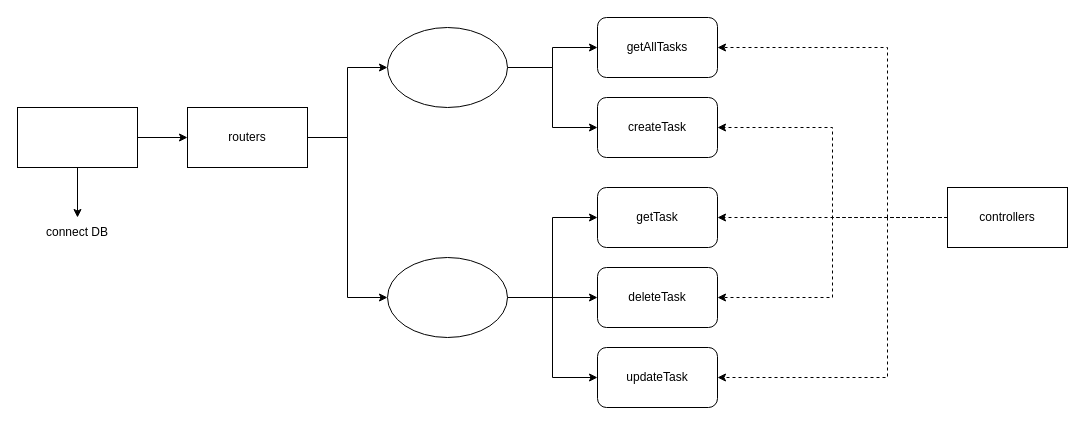
Some shapes in this 1085 by 425 pixel diagram are drawn without their labels. Here are the shapes that lost their labels. From the top down, the centre of each, then its label:
At point 447,67: "/api/v1".
At point 77,137: "app.js".
At point 447,297: "/api/v1/:id".
